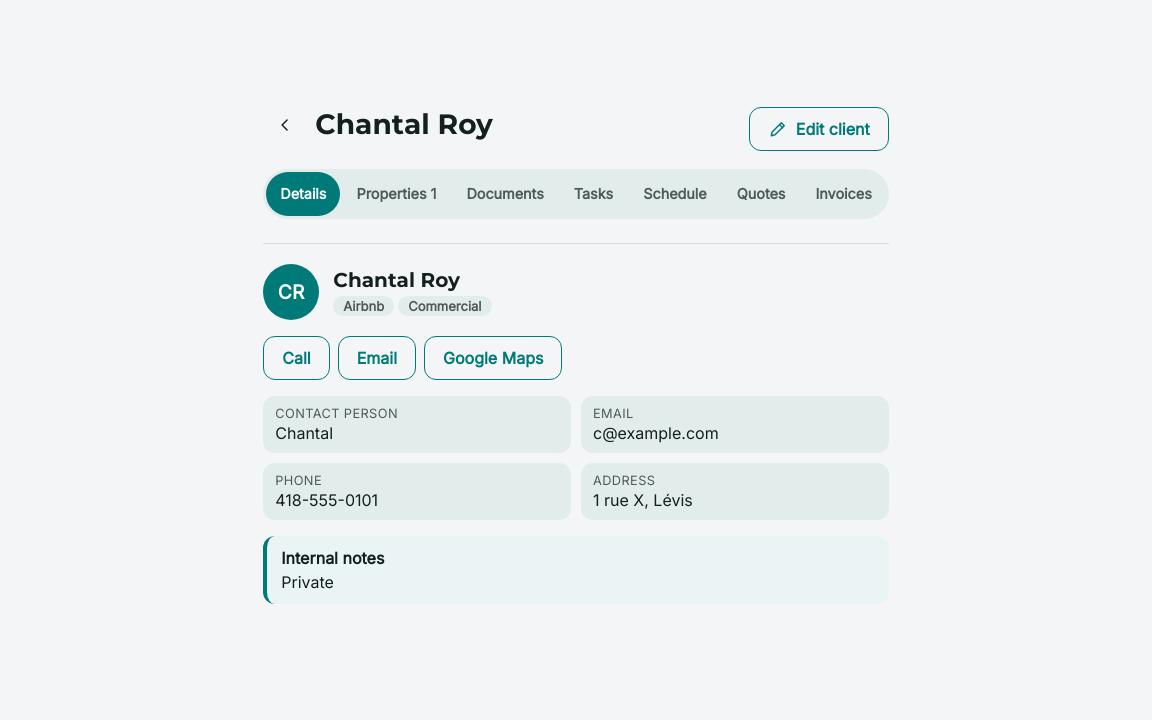
Test case: the rooms and the photos-required switch (administrators) › offers starter rooms by kind only while the list is empty, and never saves them unless accepted
Click the radio button labelled "Properties 1" at point(396, 194), box [342, 172, 450, 216]
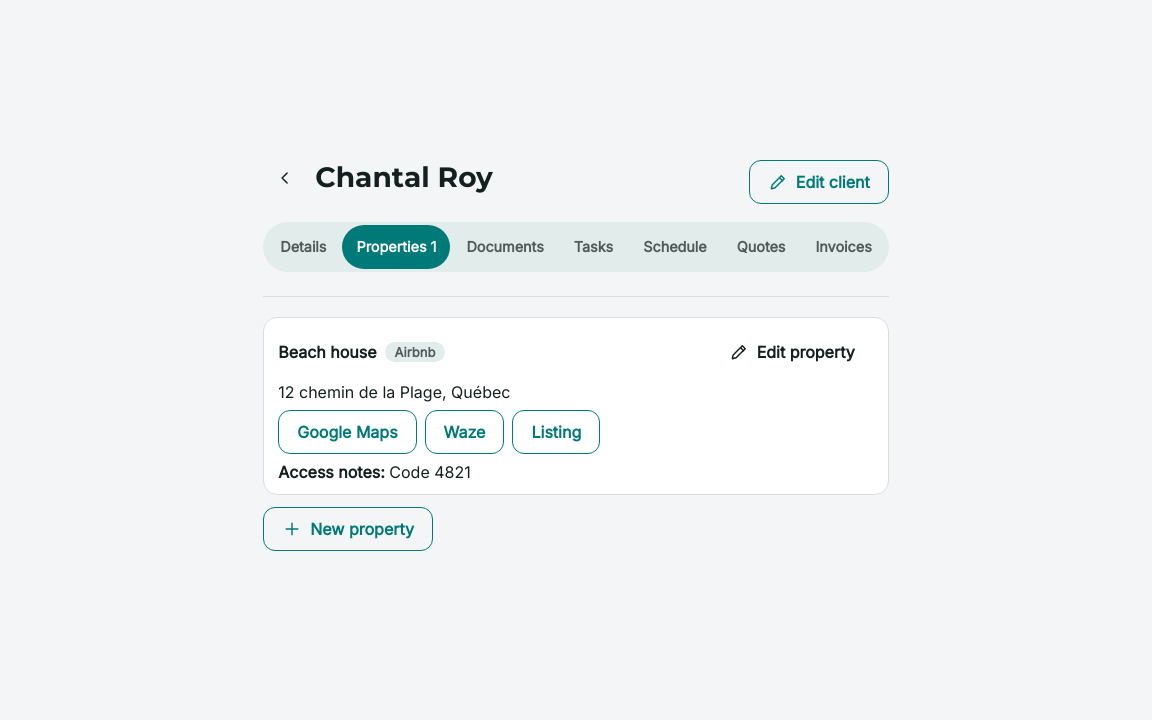
Click the button "New property" at point(348, 528), box [263, 506, 433, 550]
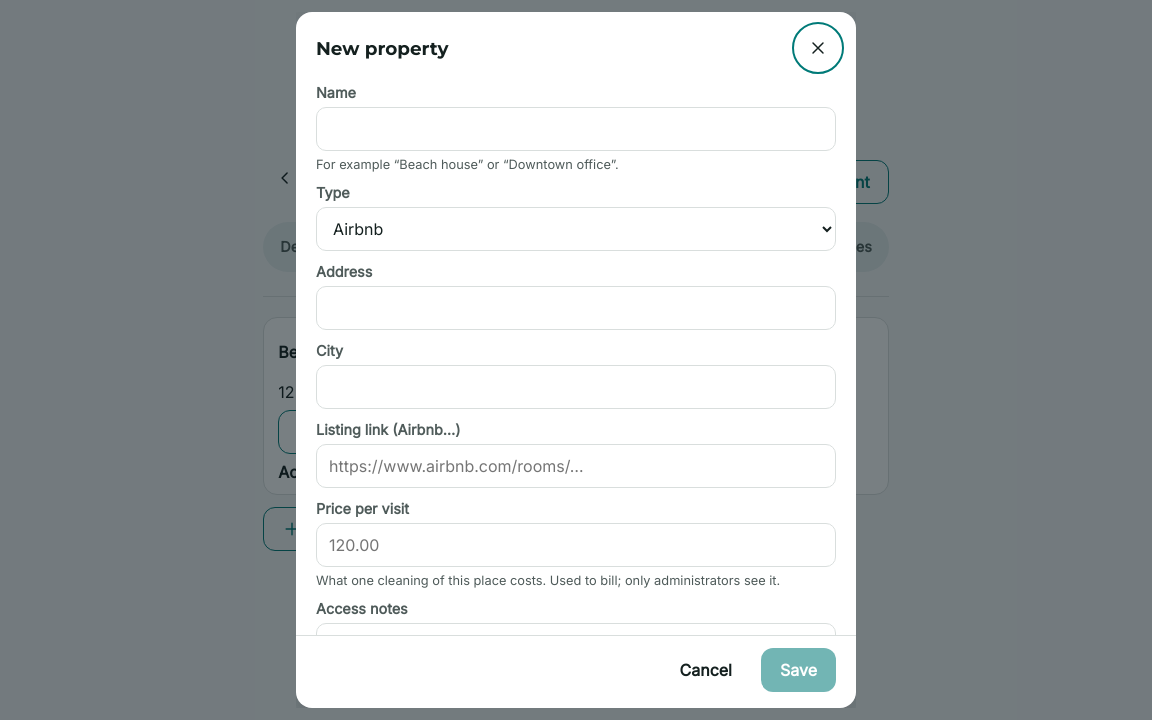
Select "Commercial" in the dropdown labelled "Type" at point(576, 229), box [316, 207, 836, 251]
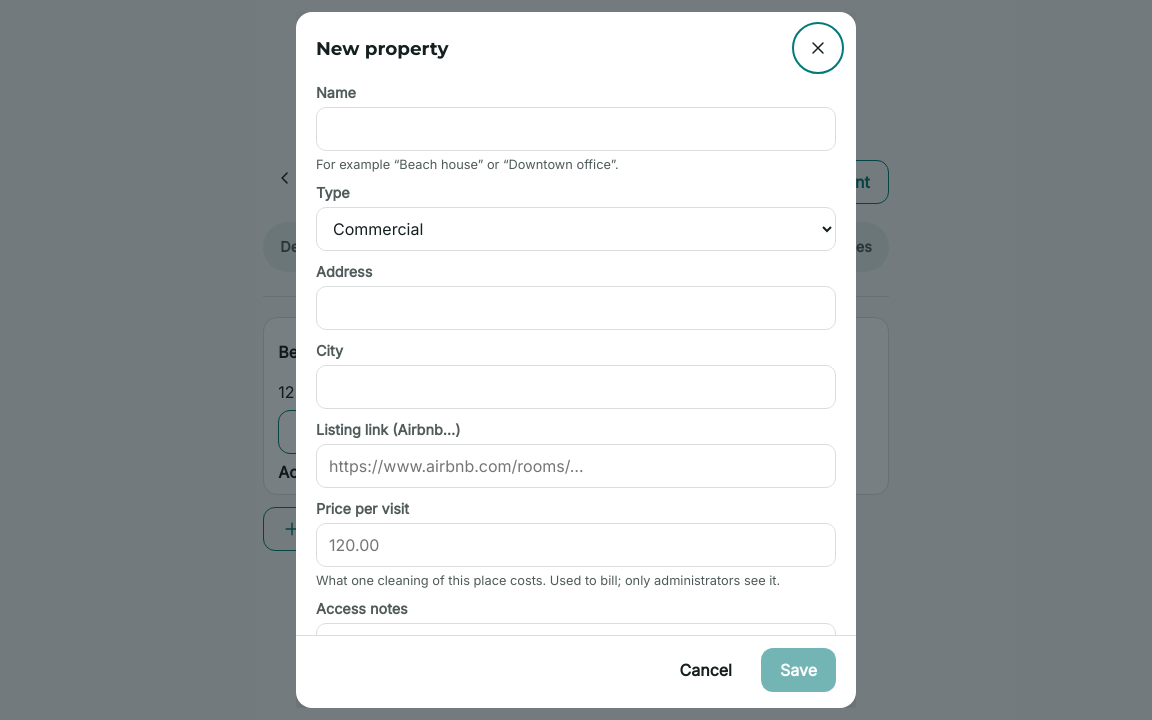
Type "Cottage" into the field labelled "Name" at point(576, 129), box [316, 107, 836, 151]
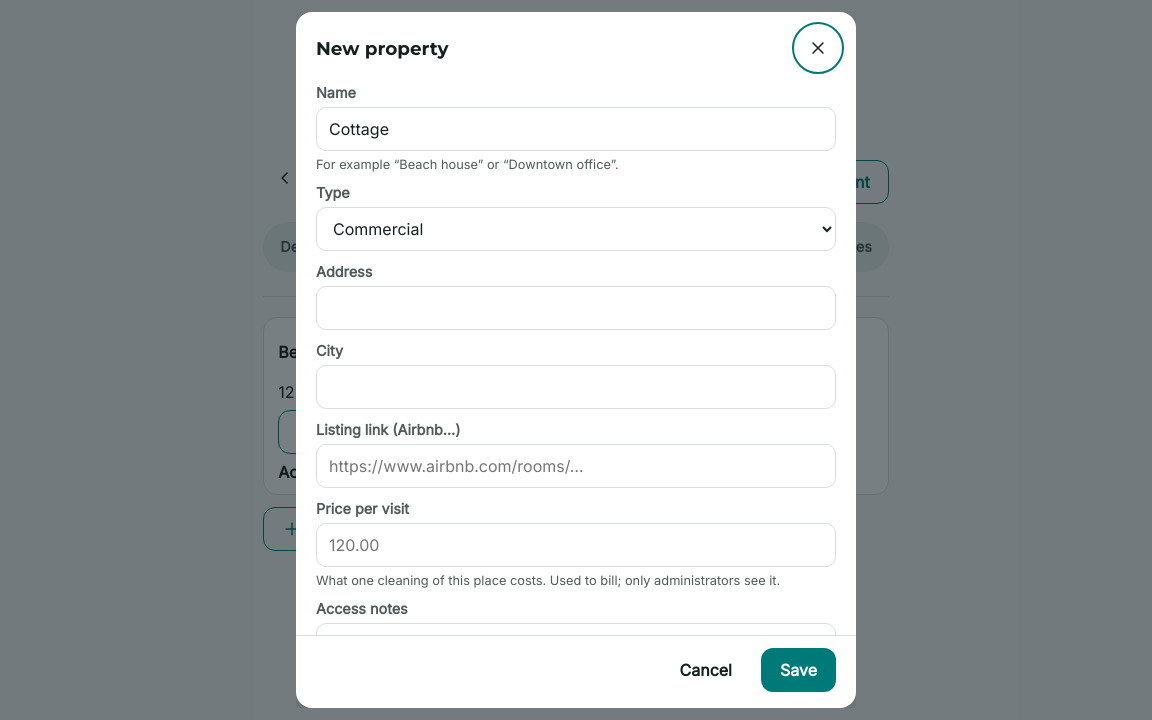
Click the button "Save" at point(798, 670), box [761, 648, 836, 692]
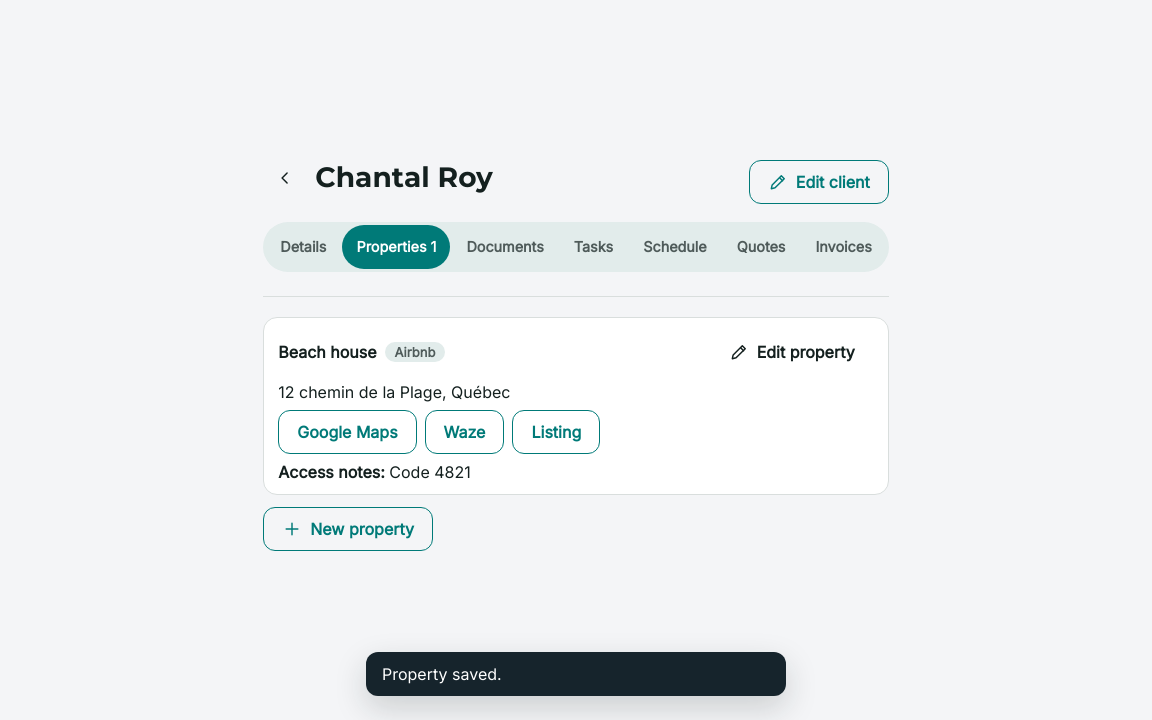
Now the dialog is gone
